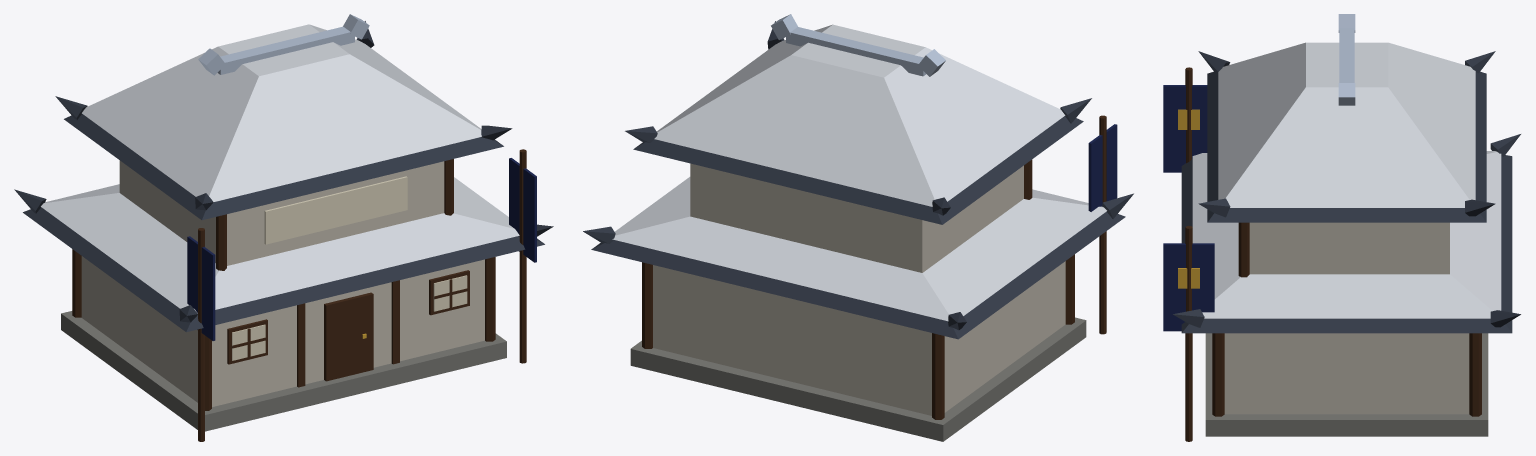
File: SM_GZ_guild_frost.fbx
3 views of the same model, side by side, from view 1: azimuth 30°, elevation 25°; view 2: azimuth 150°, elevation 25°; view 3: azimuth 270°, elevation 25° (orthographic). The views are drawn at different scales.
Visible parts, largest first — view 1: SM_GZ_guild_frost; view 2: SM_GZ_guild_frost; view 3: SM_GZ_guild_frost.
Part boxes in pixels (x1,y1,x2,y2): SM_GZ_guild_frost: (14, 14, 553, 441); SM_GZ_guild_frost: (583, 14, 1133, 441); SM_GZ_guild_frost: (1163, 14, 1520, 441).
Bounding box in the file's own units: 1164 × 939 × 975.
